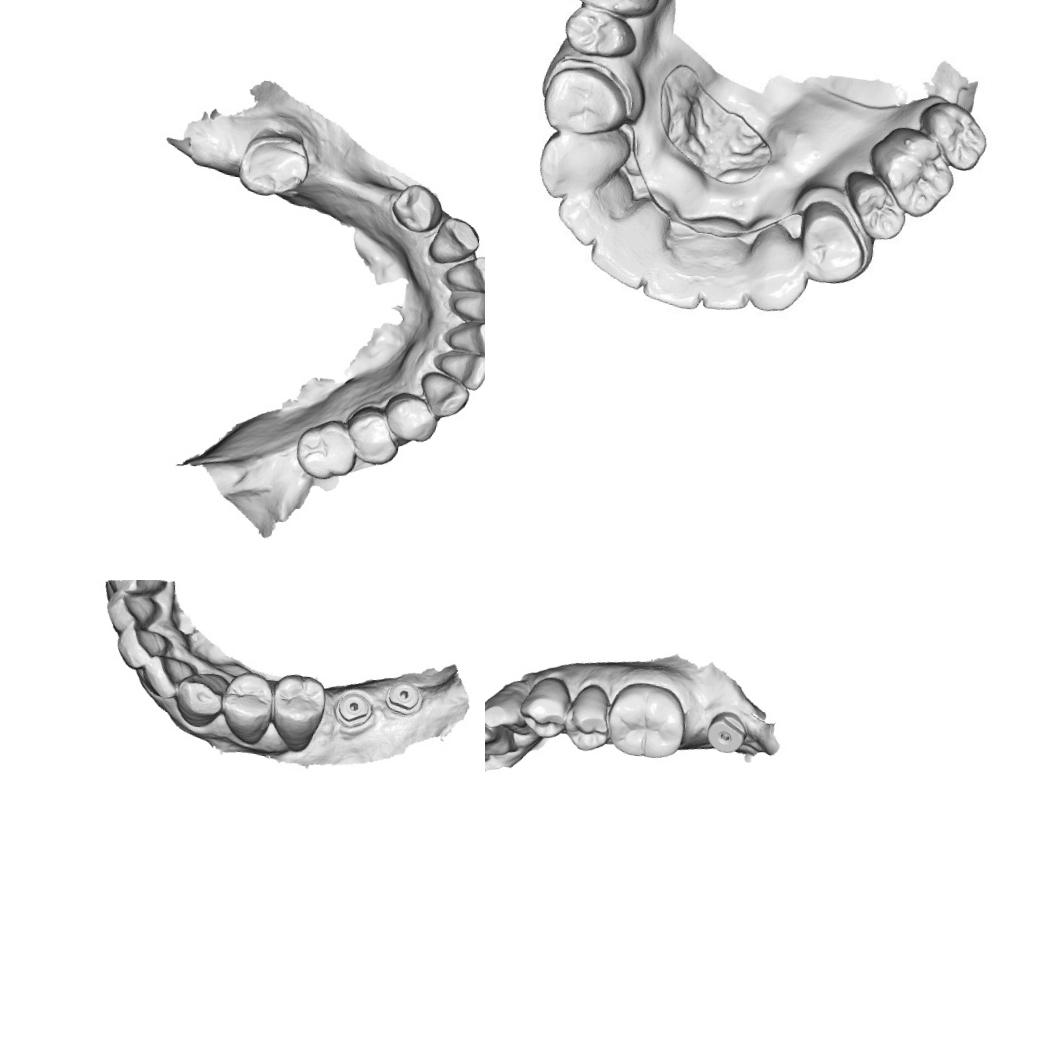canine: (534, 122, 632, 208), (740, 221, 813, 318), (170, 664, 232, 732), (485, 674, 536, 736), (426, 214, 482, 268), (416, 370, 471, 422)
implant: (704, 708, 750, 756), (382, 675, 426, 721), (332, 686, 376, 732)
incisor: (584, 215, 660, 297), (636, 238, 711, 313), (693, 236, 754, 314), (550, 182, 609, 253), (138, 651, 201, 706), (111, 622, 175, 676), (100, 586, 164, 639), (431, 348, 485, 392), (443, 251, 485, 296), (443, 318, 485, 359), (485, 721, 518, 766), (449, 286, 485, 326)
molar: (862, 123, 960, 222), (602, 678, 690, 762), (235, 123, 314, 202), (912, 98, 992, 176), (292, 414, 361, 484), (568, 0, 673, 23)
premolar: (532, 58, 634, 144), (787, 196, 873, 290), (263, 669, 334, 758), (214, 666, 280, 751), (554, 2, 643, 64), (840, 172, 910, 247), (560, 681, 615, 755), (342, 403, 404, 468), (516, 672, 573, 740), (381, 390, 440, 444), (388, 182, 446, 236)
